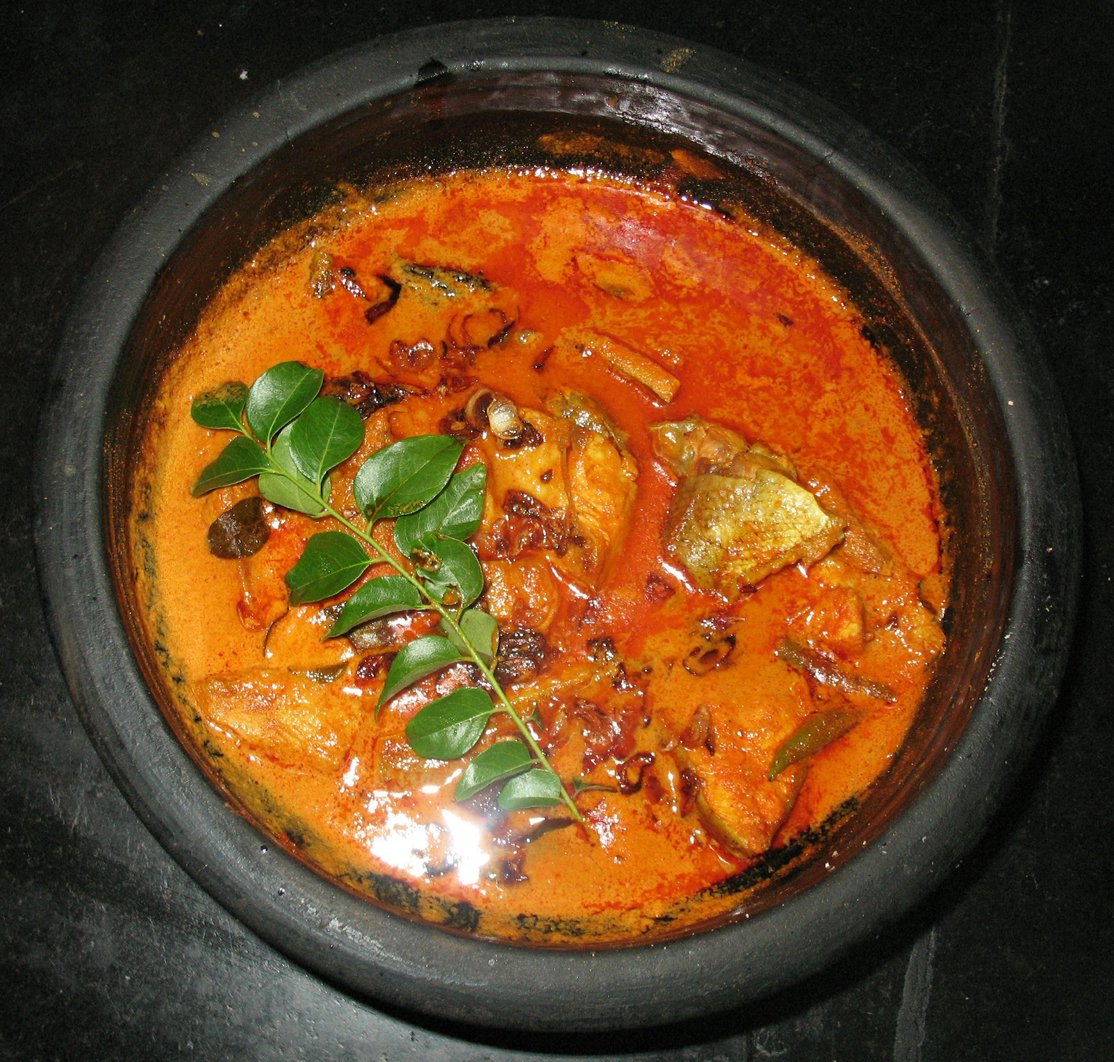FishCurry: (137, 168, 950, 944)
